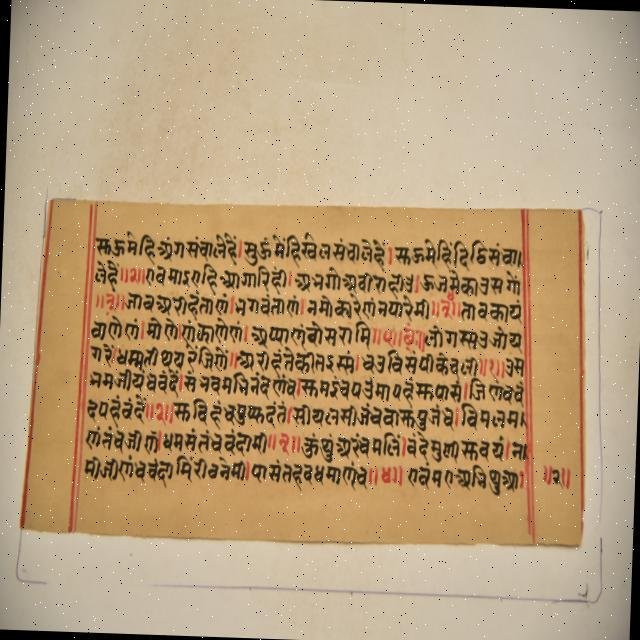text_paragraph: (18, 200, 581, 542)
